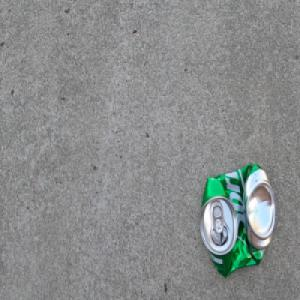SodaCan: (197, 161, 276, 279)
